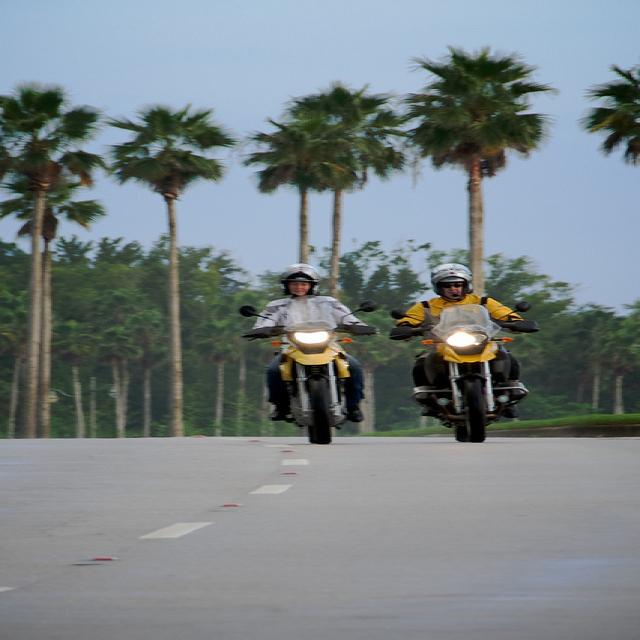motor: (392, 301, 539, 450), (227, 301, 378, 442)
